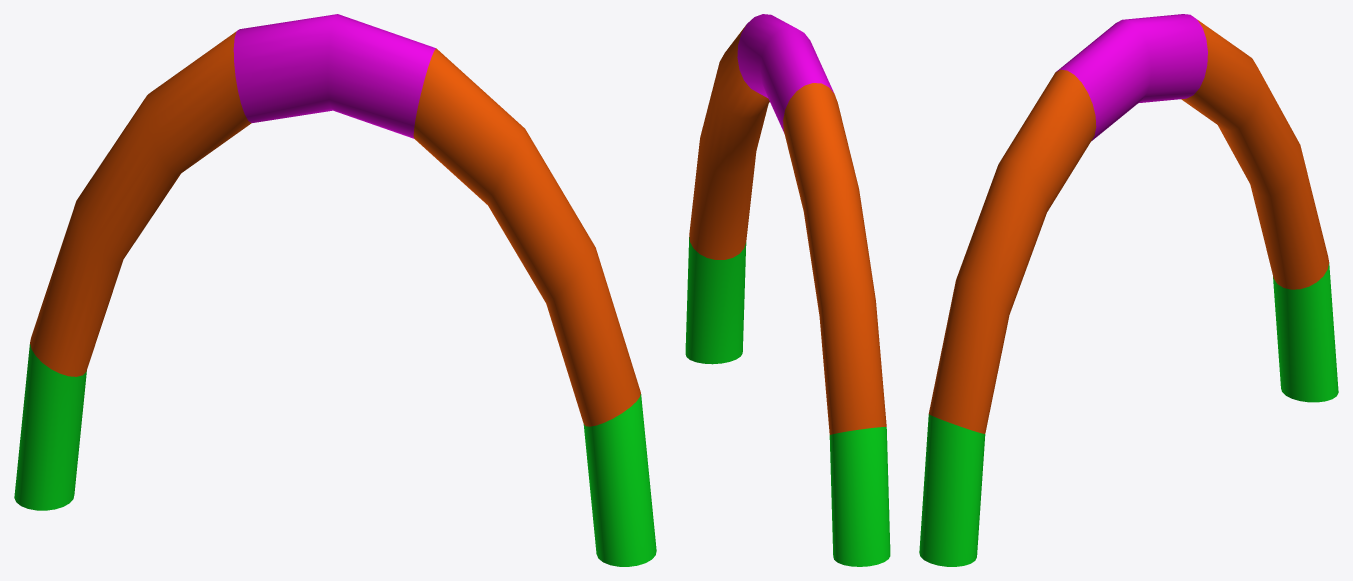
File: Archway2.fbx
3 renders of one model, left to right at view 1: azimuth 30°, elevation 25°; view 2: azimuth 150°, elevation 25°; view 3: azimuth 270°, elevation 25°, orthographic. The views are drawn at different scales.
Visible parts, largest first — view 1: pTorus6; view 2: pTorus6; view 3: pTorus6.
Boxes of the visible parts, left/top/right/bottom form: pTorus6: left=14, top=14, right=656, bottom=566; pTorus6: left=685, top=14, right=890, bottom=566; pTorus6: left=919, top=14, right=1338, bottom=566.
Bounding box in the file's own units: 63.2 × 70.71 × 59.42.
